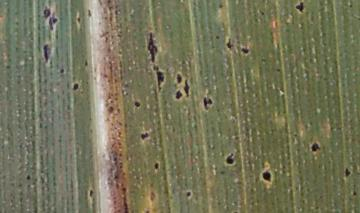tarspot: (146, 30, 158, 62), (42, 43, 51, 63), (182, 79, 191, 98), (155, 70, 164, 89), (202, 96, 213, 110), (49, 14, 58, 30), (261, 170, 272, 183), (225, 151, 235, 165), (310, 141, 321, 152), (224, 38, 235, 49), (295, 1, 304, 14), (42, 7, 51, 18), (71, 81, 80, 91), (176, 72, 183, 84), (139, 131, 149, 139), (175, 89, 183, 99), (240, 46, 250, 54), (58, 66, 66, 75), (151, 64, 160, 72), (153, 160, 160, 170), (345, 166, 351, 177), (24, 173, 32, 181), (184, 190, 192, 198), (134, 100, 141, 109), (82, 58, 88, 68), (86, 8, 92, 18), (275, 66, 282, 74), (76, 15, 82, 23), (88, 189, 94, 197), (217, 3, 225, 9), (215, 35, 221, 41), (260, 11, 266, 17), (349, 3, 354, 9), (352, 191, 358, 195), (145, 209, 150, 213)
